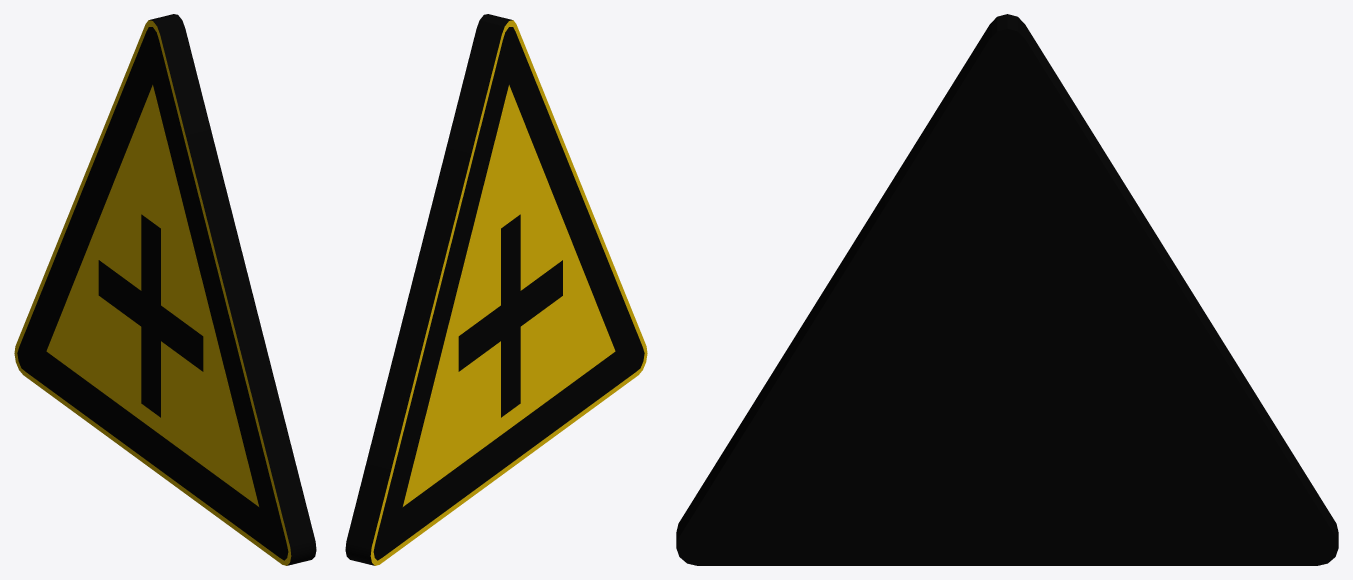
File: Ten_Crossing.fbx
3 views of the same model, side by side, from view 1: azimuth 30°, elevation 25°; view 2: azimuth 150°, elevation 25°; view 3: azimuth 270°, elevation 25° (orthographic). The views are drawn at different scales.
Visible parts, largest first — view 1: Ten_Crossing; view 2: Ten_Crossing; view 3: Ten_Crossing.
Part boxes in pixels (box(x1,y1,x2,y2)): Ten_Crossing: box(14, 14, 316, 565); Ten_Crossing: box(345, 14, 647, 565); Ten_Crossing: box(676, 14, 1338, 565).
Size of the model in its own units: 0.0643 by 1.02 by 1.14.
